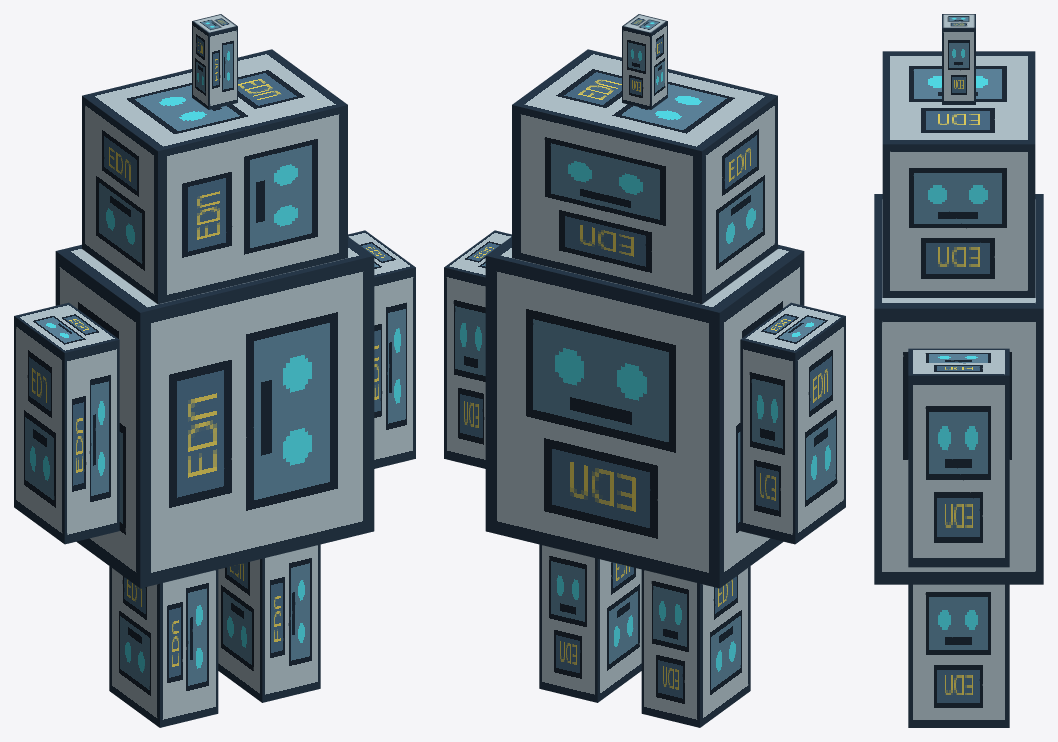
The model's file is robot.obj.
3 views of the same model, side by side, from view 1: azimuth 30°, elevation 25°; view 2: azimuth 150°, elevation 25°; view 3: azimuth 270°, elevation 25° (orthographic).
Visible parts, largest first — view 1: robot; view 2: robot; view 3: robot.
Boxes of the visible parts, left/top/right/bottom form: robot: left=14, top=14, right=415, bottom=727; robot: left=444, top=14, right=845, bottom=727; robot: left=874, top=14, right=1043, bottom=727.
Size of the model in its own units: 0.96 by 1.74 by 0.4.
